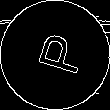P_W: (25, 30, 85, 80)
